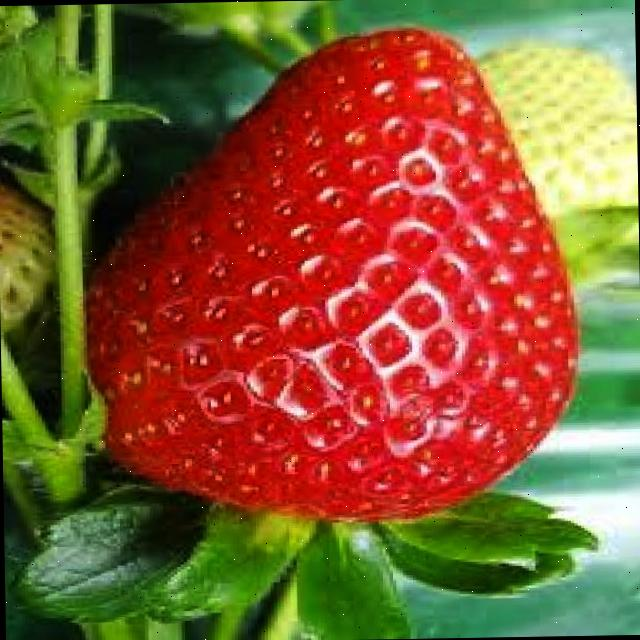strawberry: (76, 24, 583, 529)
